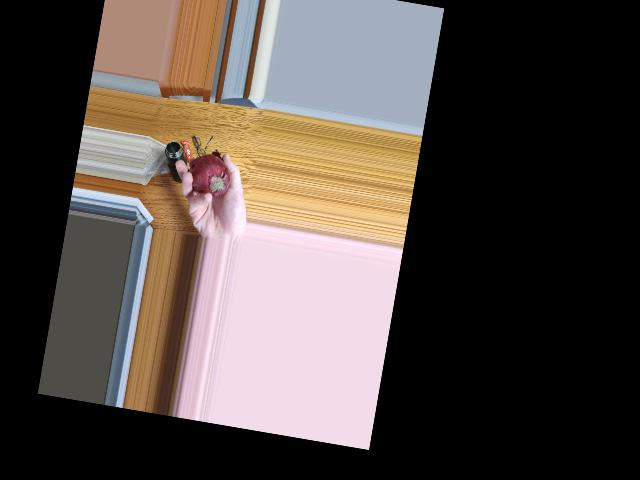onion: (188, 156, 234, 199)
